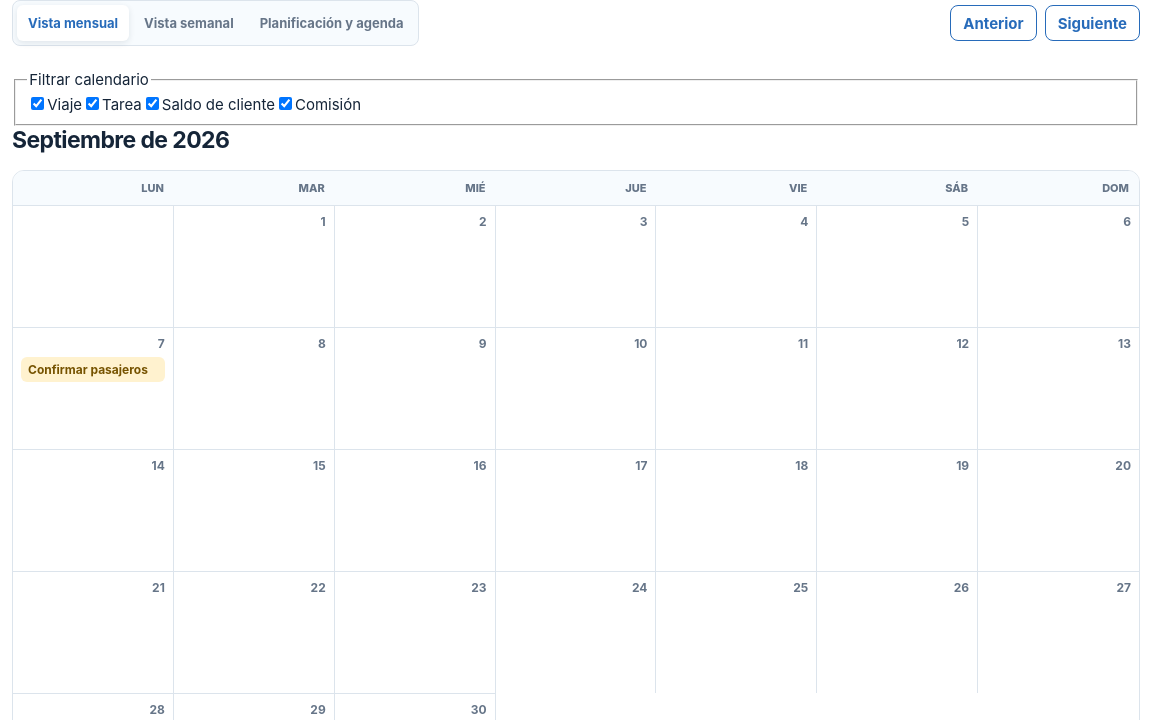
it: CalendarPage › switches between month, week and agenda without offering an hourly daily view
The width and height of the screenshot is (1164, 720).
Expected: the heading "Septiembre de 2026" is shown, x1=12 y1=126 x2=229 y2=154
Click the button "Vista semanal" at (189, 23), box x1=133 y1=5 x2=245 y2=41
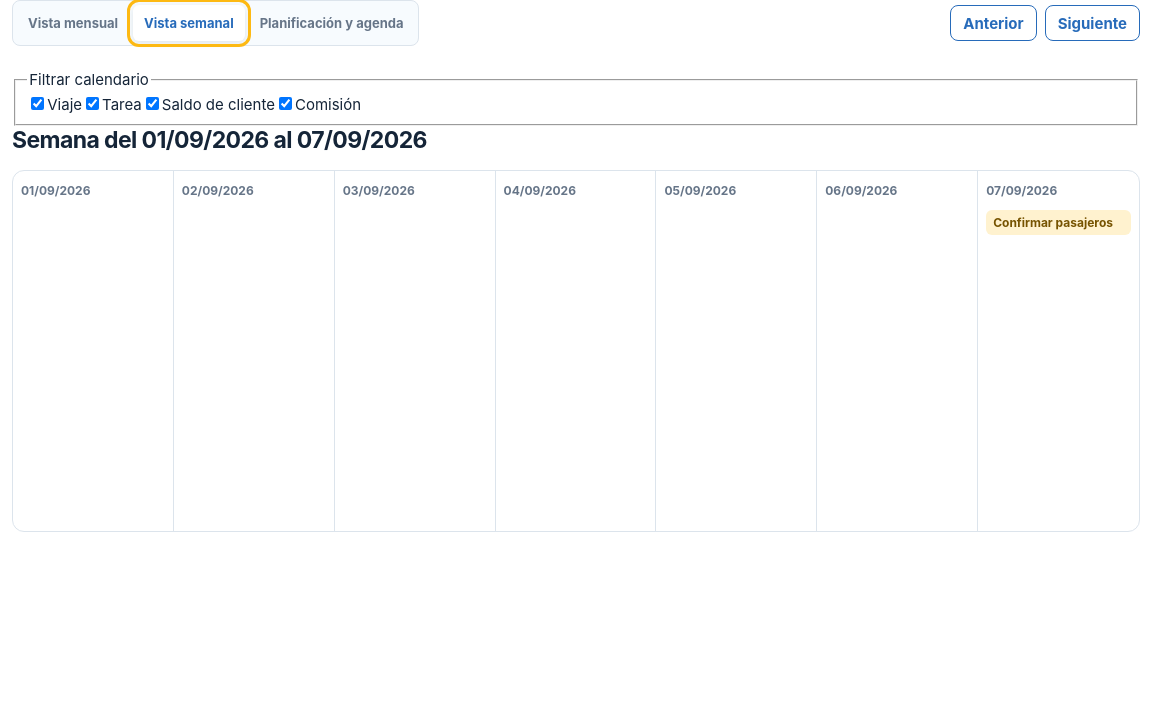
Expected: the heading "Semana del 01/09/2026 al 07/09/2026" is shown, x1=12 y1=126 x2=427 y2=154
Click the button "Planificación y agenda" at (332, 23), box x1=249 y1=5 x2=414 y2=41
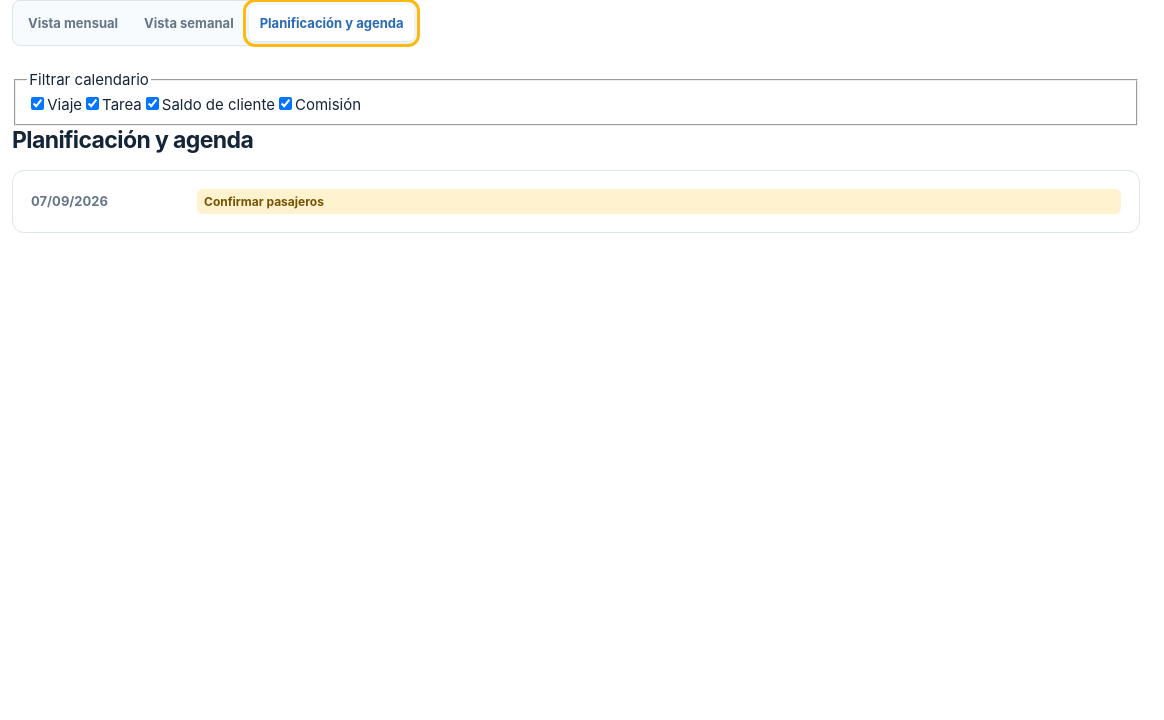
Expected: the heading "Planificación y agenda" is shown, x1=12 y1=126 x2=253 y2=154
